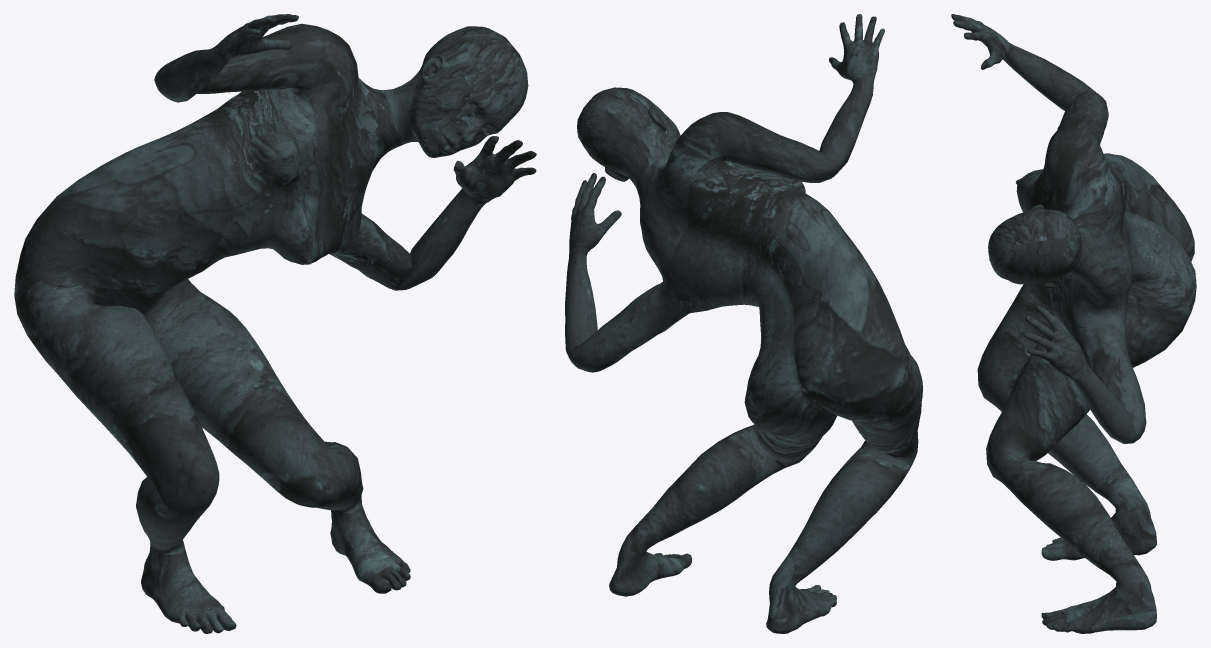
The model's file is body3.fbx.
The picture shows the model from 3 angles, left to right: view 1: azimuth 30°, elevation 25°; view 2: azimuth 150°, elevation 25°; view 3: azimuth 270°, elevation 25°; orthographic projection. The views are drawn at different scales.
Parts seen in each view (by area): view 1: body3:LADAY:base_obj; view 2: body3:LADAY:base_obj; view 3: body3:LADAY:base_obj.
Boxes of the visible parts, x1,y1,x2,y2 form: body3:LADAY:base_obj: [14, 14, 536, 633]; body3:LADAY:base_obj: [565, 14, 922, 633]; body3:LADAY:base_obj: [951, 14, 1196, 633].
Size of the model in its own units: 8.17 by 11.26 by 4.63.
